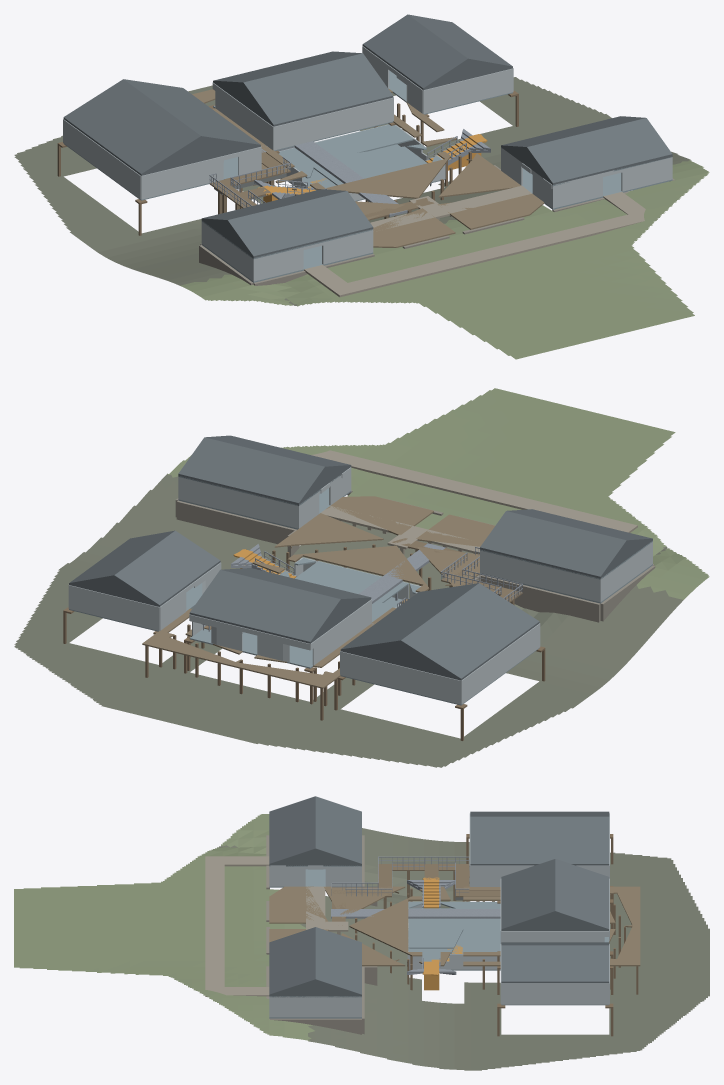
File: architecture-without-guides.glb
3 views of the same model, one above another, from view 1: azimuth 30°, elevation 25°; view 2: azimuth 150°, elevation 25°; view 3: azimuth 270°, elevation 25° (orthographic). The views are drawn at different scales.
Visible parts, largest first — view 1: Saved editor macroterrain WLD-06, boathouse roof west, fish-house roof south, west-cottage roof south, east-cottage roof south, Entrance rebuild WLD-06 continuous approach pavement region0, net-store roof west, Wall fish S, boathouse roof east, Wall net S, Flat route shell Wall boathouse S, Wall boathouse W (+23 smaller); view 2: Saved editor macroterrain WLD-06, boathouse roof west, fish-house roof north, east-cottage roof north, west-cottage roof north, net-store roof west, Entrance rebuild WLD-06 continuous approach pavement region0, Wall boathouse N, boathouse roof east, Entrance rebuild WLD-06 cottage-a N end, Entrance rebuild WLD-06 cottage-b N end, Wall net N (+21 smaller); view 3: Saved editor macroterrain WLD-06, boathouse roof east, net-store roof east, Entrance rebuild WLD-06 continuous approach pavement region0, fish-house roof south, fish-house roof north, west-cottage roof north, west-cottage roof south, east-cottage roof south, east-cottage roof north, Wall net E, Wharf continuous west perimeter boardwalk region0 (+19 smaller).
Boxes of the visible parts, x1,y1,x2,y2 form: Saved editor macroterrain WLD-06: (14, 77, 709, 359); boathouse roof west: (63, 79, 200, 174); fish-house roof south: (243, 53, 393, 126); west-cottage roof south: (227, 191, 373, 257); east-cottage roof south: (527, 118, 672, 184); Entrance rebuild WLD-06 continuous approach pavement region0: (304, 192, 657, 297); net-store roof west: (362, 14, 468, 89); Wall fish S: (273, 97, 393, 150); boathouse roof east: (124, 79, 260, 146); Wall net S: (423, 68, 513, 113); Flat route shell Wall boathouse S: (141, 156, 223, 199); Wall boathouse W: (63, 119, 141, 199); Saved editor macroterrain WLD-06: (14, 388, 709, 767); boathouse roof west: (401, 583, 539, 680); fish-house roof north: (189, 570, 340, 643); east-cottage roof north: (178, 437, 324, 504); west-cottage roof north: (480, 511, 626, 578); net-store roof west: (114, 530, 220, 606); Entrance rebuild WLD-06 continuous approach pavement region0: (311, 450, 637, 532); Wall boathouse N: (340, 651, 461, 704); boathouse roof east: (340, 583, 478, 650); Entrance rebuild WLD-06 cottage-a N end: (480, 550, 601, 602); Entrance rebuild WLD-06 cottage-b N end: (178, 477, 299, 528); Wall net N: (68, 585, 159, 630); Saved editor macroterrain WLD-06: (14, 814, 709, 1070); boathouse roof east: (470, 816, 609, 865); net-store roof east: (501, 945, 609, 982); Entrance rebuild WLD-06 continuous approach pavement region0: (205, 856, 269, 996); fish-house roof south: (501, 859, 555, 930); fish-house roof north: (555, 859, 609, 930); west-cottage roof north: (315, 796, 361, 865); west-cottage roof south: (269, 796, 315, 865); east-cottage roof south: (269, 927, 315, 995); east-cottage roof north: (315, 927, 361, 995); Wall net E: (501, 983, 609, 1004); Wharf continuous west perimeter boardwalk region0: (332, 864, 500, 925).
Bounding box in the file's own units: 70 × 11.34 × 90.
39 materials, 14 textured.
